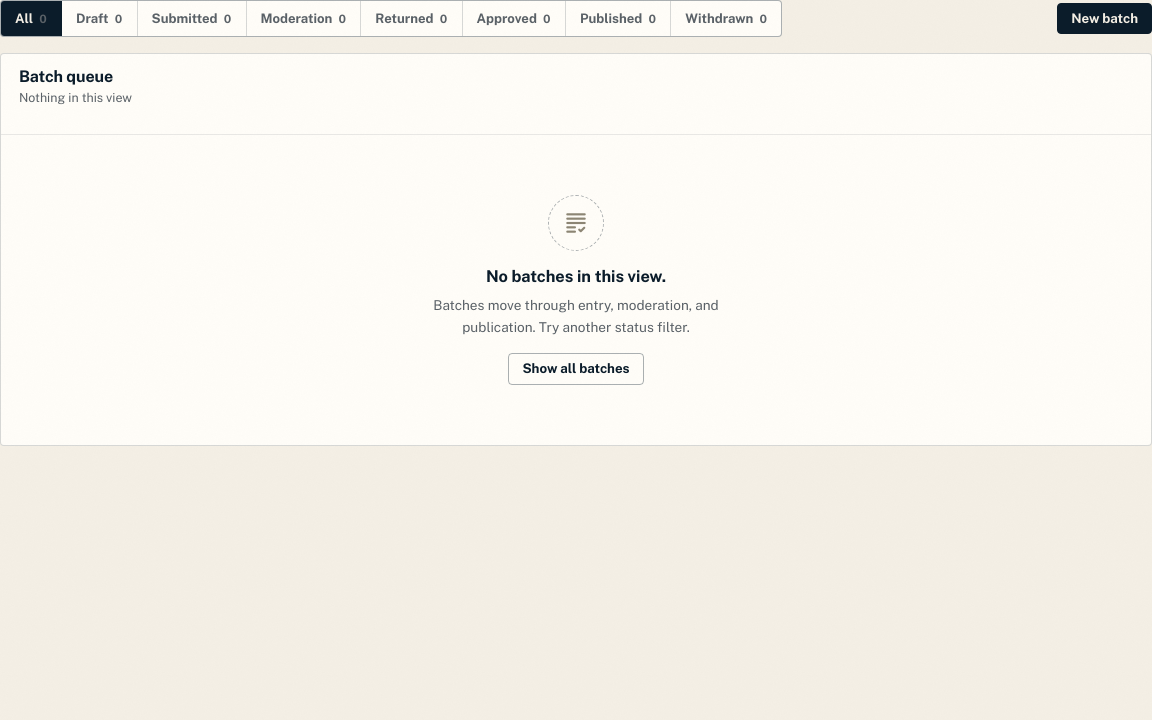
new batch creation › opens on a term and section that actually have configured subjects
This screenshot has width=1152, height=720.
What coordinates should you click on to do the following:
click the button "New batch"
I would click on:
 (1105, 18)
Its box is [1057,2,1151,34].
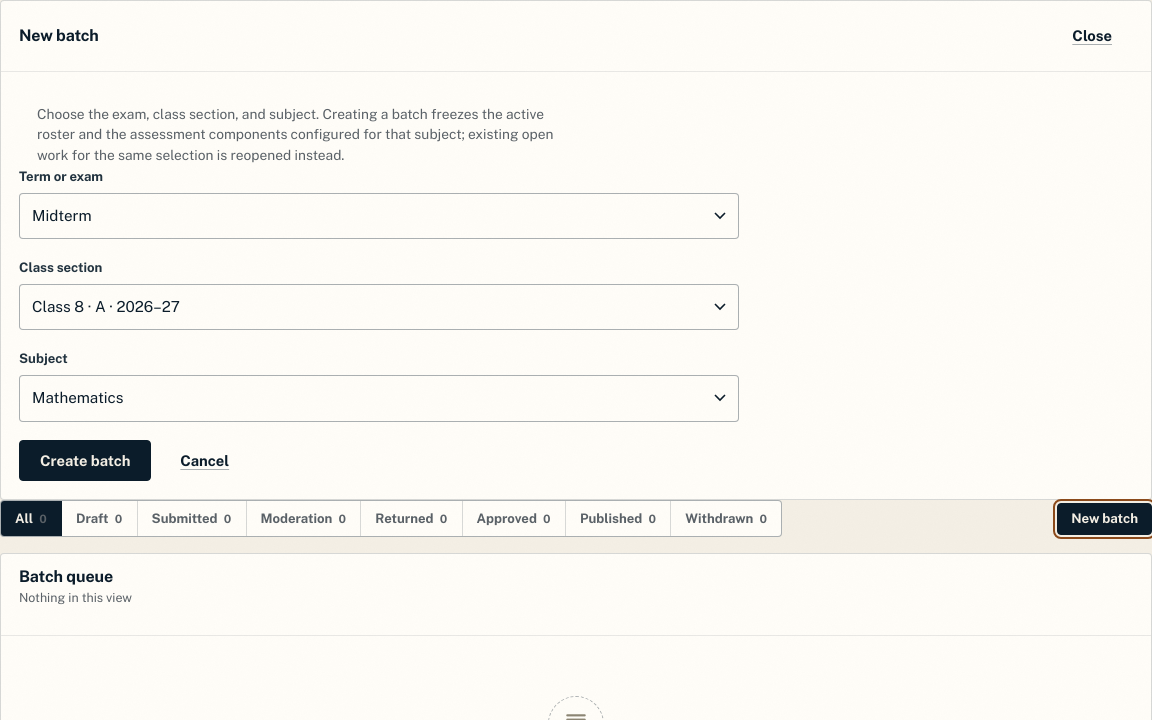
Result: the dropdown labelled "Term or exam" shows "Midterm" at [19,193,739,239]
Result: the dropdown labelled "Class section" shows "Class 8 · A · 2026–27" at [19,284,739,330]
Result: the dropdown labelled "Subject" shows "Mathematics" at [19,375,739,422]
